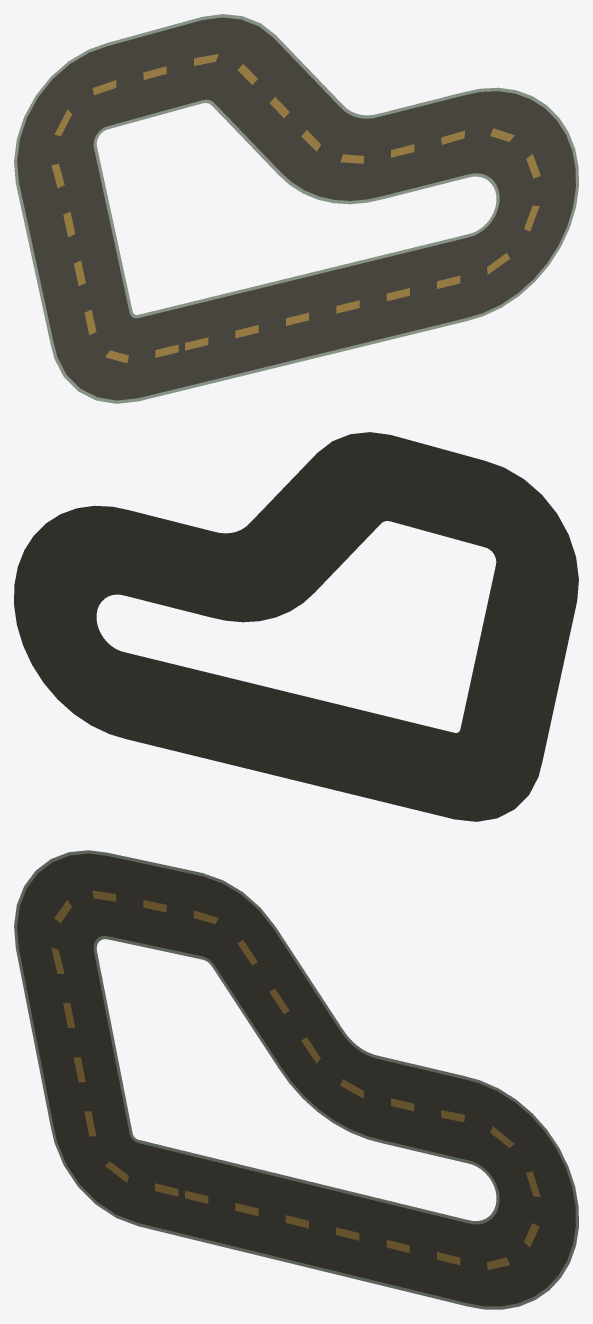
File: track.obj
3 views of the same model, one above another, from view 1: azimuth 30°, elevation 25°; view 2: azimuth 150°, elevation 25°; view 3: azimuth 330°, elevation 25° (orthographic).
Bounding box in the file's own units: 7.29 × 4.55 × 0.002.
